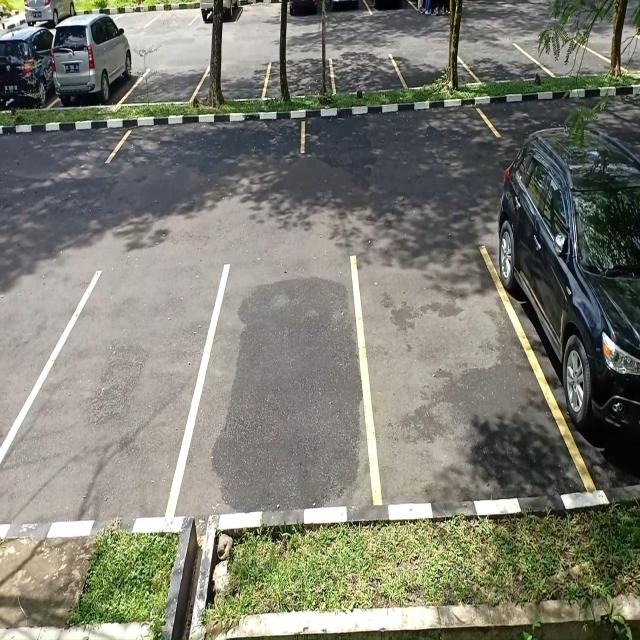empty: (192, 249, 368, 509), (27, 264, 192, 528), (361, 247, 513, 501), (302, 102, 492, 162), (108, 116, 305, 164), (133, 57, 204, 107), (203, 54, 269, 103), (398, 46, 466, 92), (266, 58, 336, 98), (332, 53, 399, 94), (466, 43, 534, 82)
occupied: (512, 168, 640, 492), (49, 32, 134, 111)
